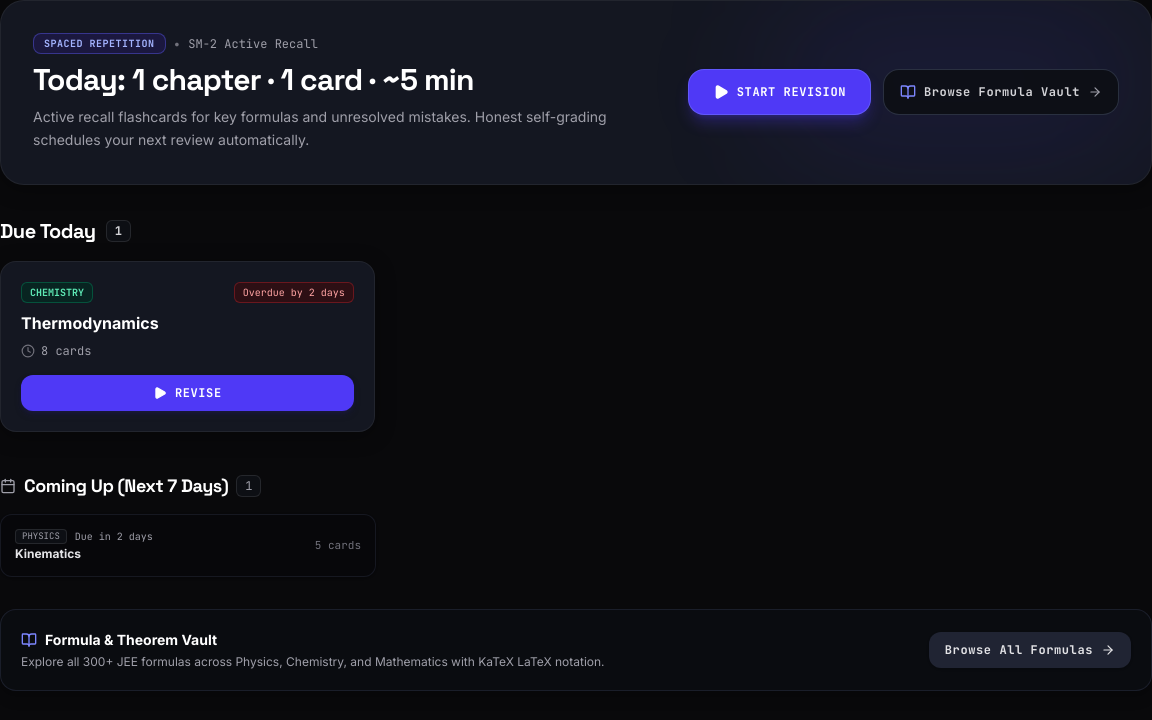
Test case: RevisionPage Overhauled View (Magnitude 5.1) › launches RevisionSession when clicking Revise on a chapter card
Click the button "Revise": (187, 392) [21, 374, 354, 410]
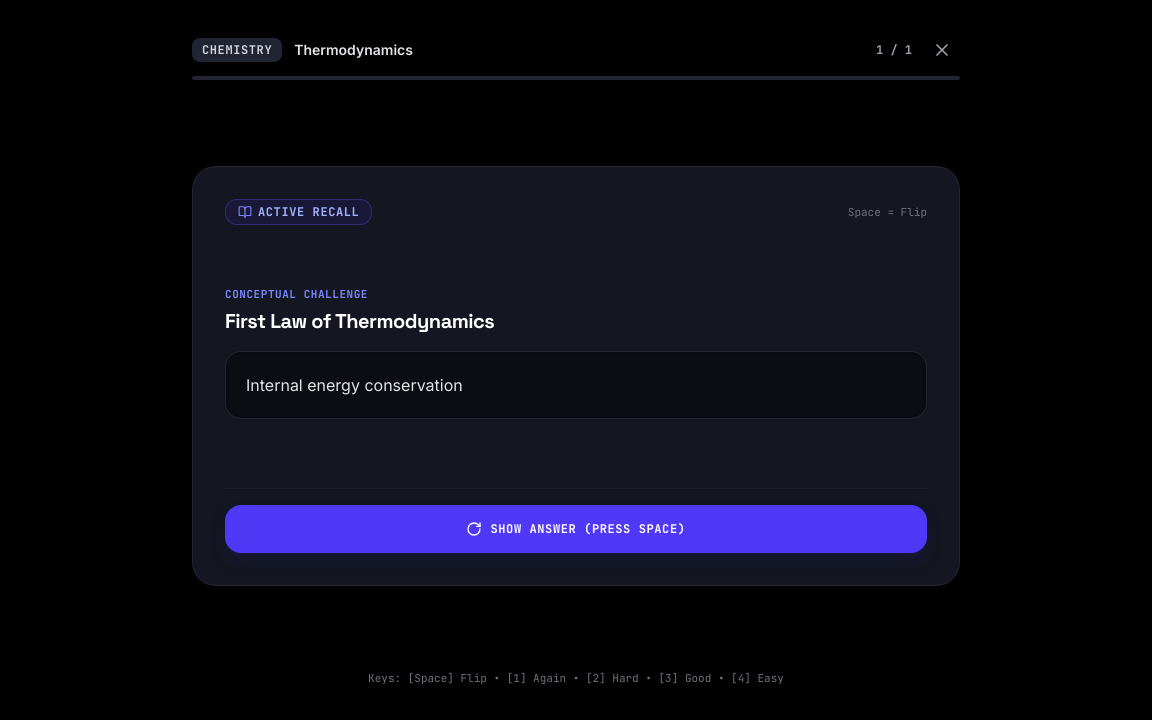
Now the heading "First Law of Thermodynamics" is shown, box [225, 308, 494, 334]
Now the text "Show Answer (Press Space)" is shown, box [490, 521, 686, 537]
